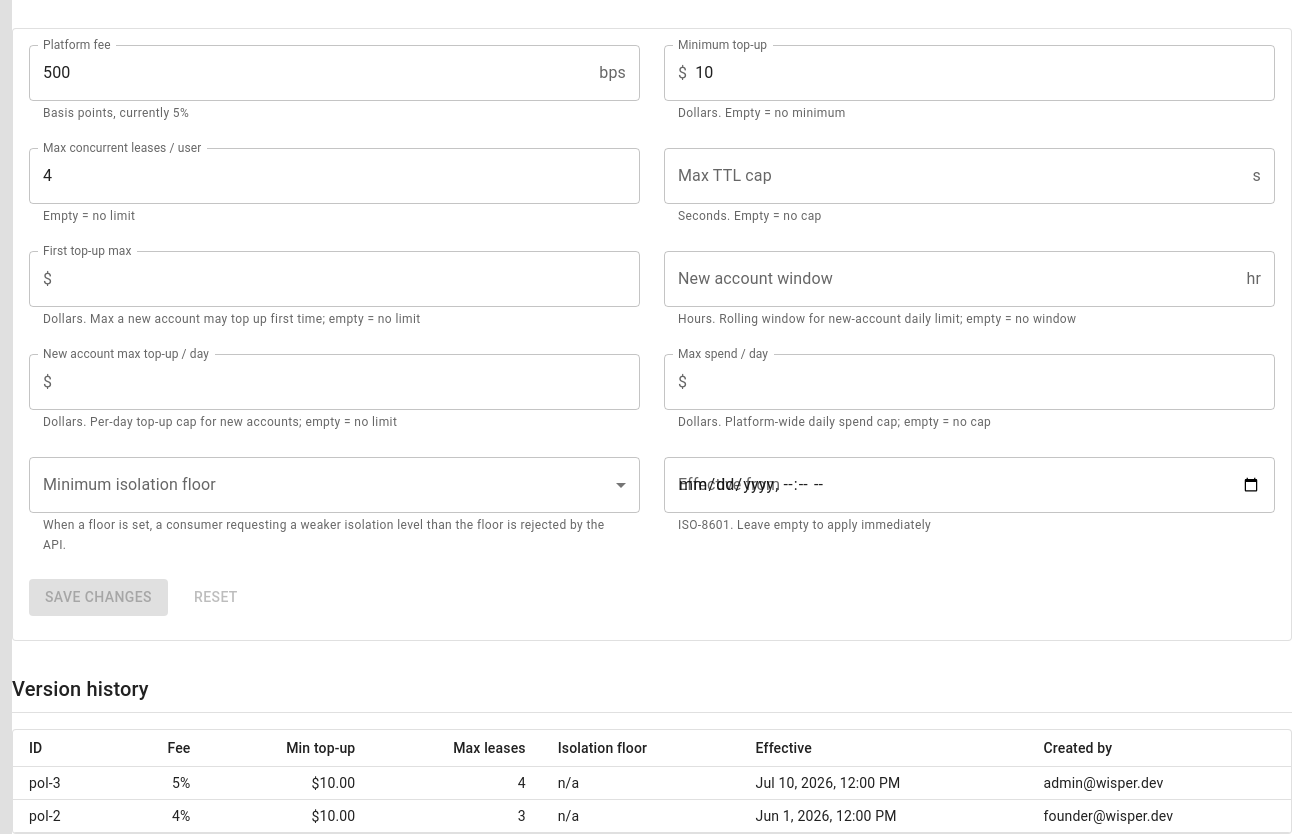
Test: PolicyEditor › re-reads GET /v1/admin/policy after a save and shows the new active version and history
The image size is (1292, 834).
Replace the text in the number field labelled "Platform fee" with "750" at (310, 73), box [29,45,591,101]
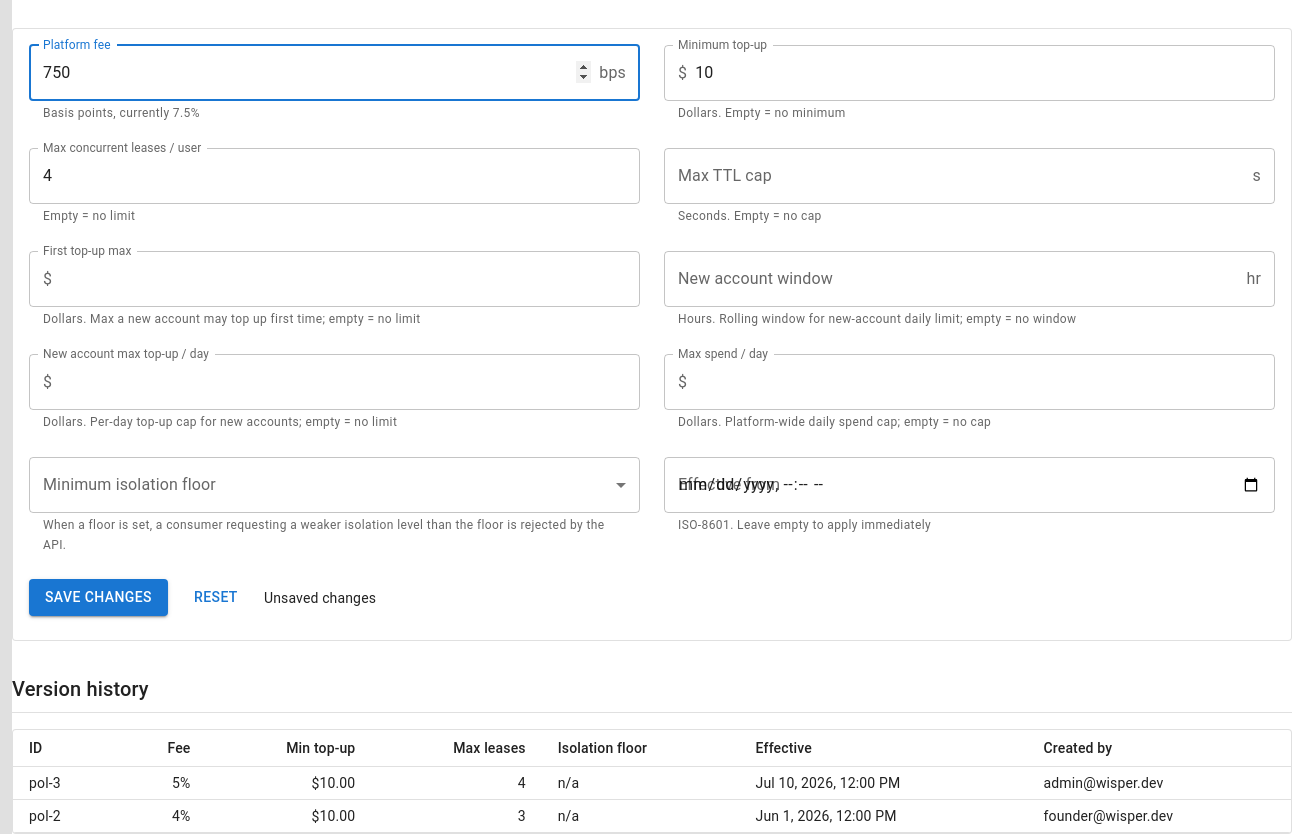
Click the button "Save changes" at (98, 598), box [29,579,168,616]
(page scrolled)
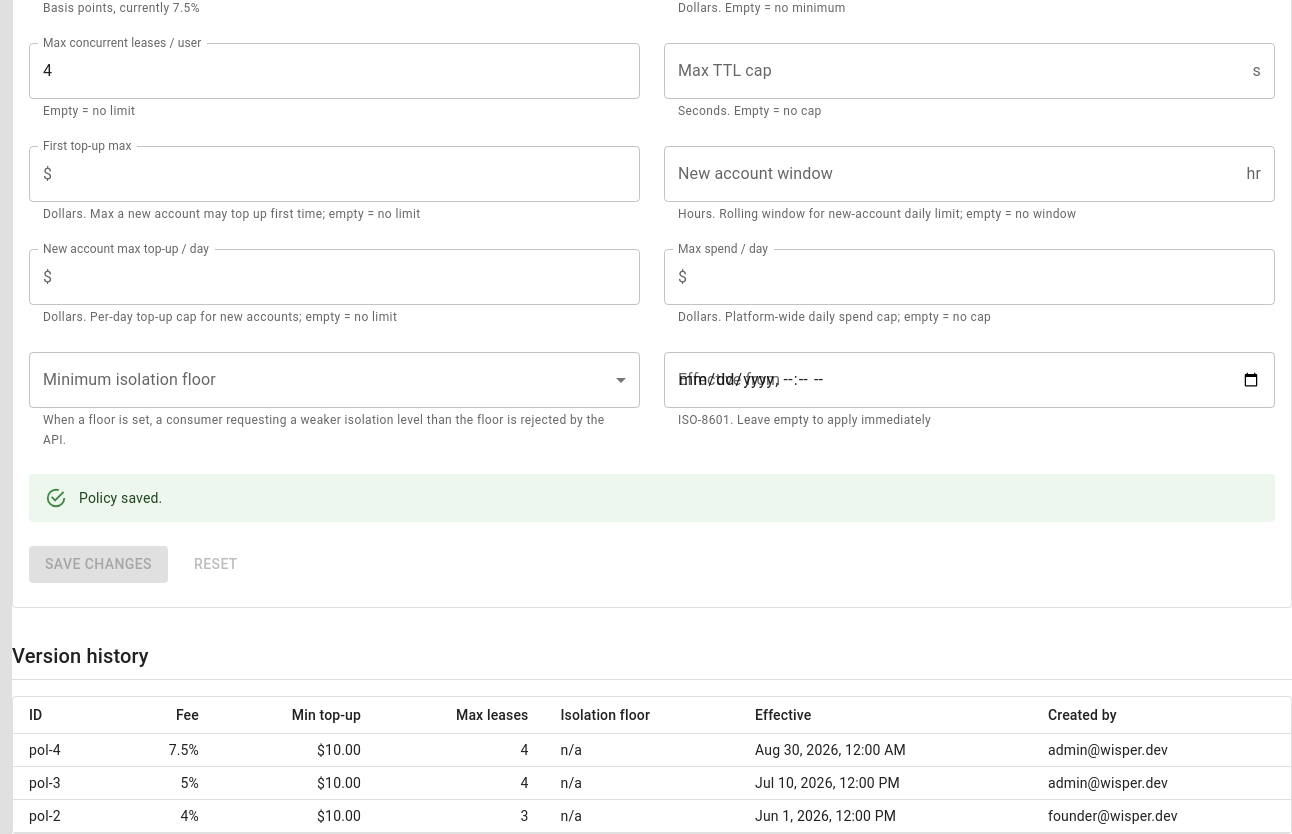
expect the text "pol-3" is shown: met, box [13,766,115,800]
expect the text "pol-4" is shown: met, box [13,733,115,766]
